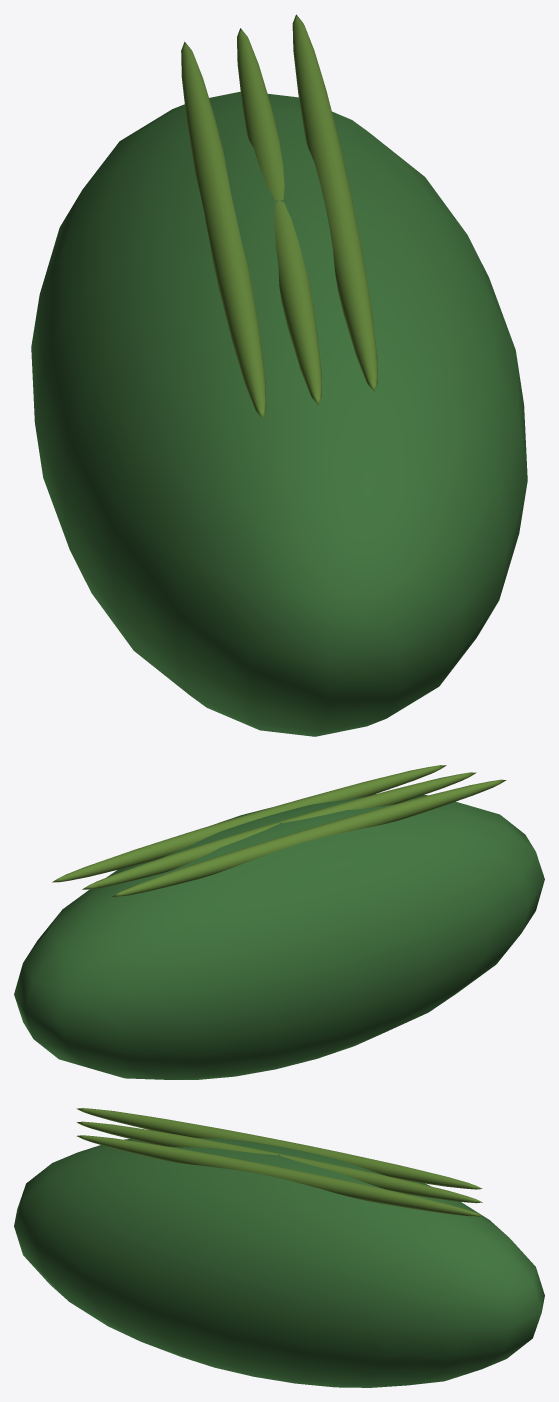
The model's file is cucumber-whole.obj.
3 renders of one model, top to bottom at view 1: azimuth 30°, elevation 25°; view 2: azimuth 150°, elevation 25°; view 3: azimuth 270°, elevation 25°, orthographic. The views are drawn at different scales.
Parts seen in each view (by area): view 1: cucumber-whole_cucumber, cucumber-whole_leaf; view 2: cucumber-whole_cucumber, cucumber-whole_leaf; view 3: cucumber-whole_cucumber, cucumber-whole_leaf.
Boxes of the visible parts, x1,y1,x2,y2 form: cucumber-whole_cucumber: [31, 91, 527, 736]; cucumber-whole_leaf: [181, 14, 377, 418]; cucumber-whole_cucumber: [14, 794, 544, 1079]; cucumber-whole_leaf: [52, 765, 506, 896]; cucumber-whole_cucumber: [14, 1137, 544, 1387]; cucumber-whole_leaf: [76, 1108, 482, 1216].
Size of the model in its own units: 0.1874 by 0.134 by 0.3027.
